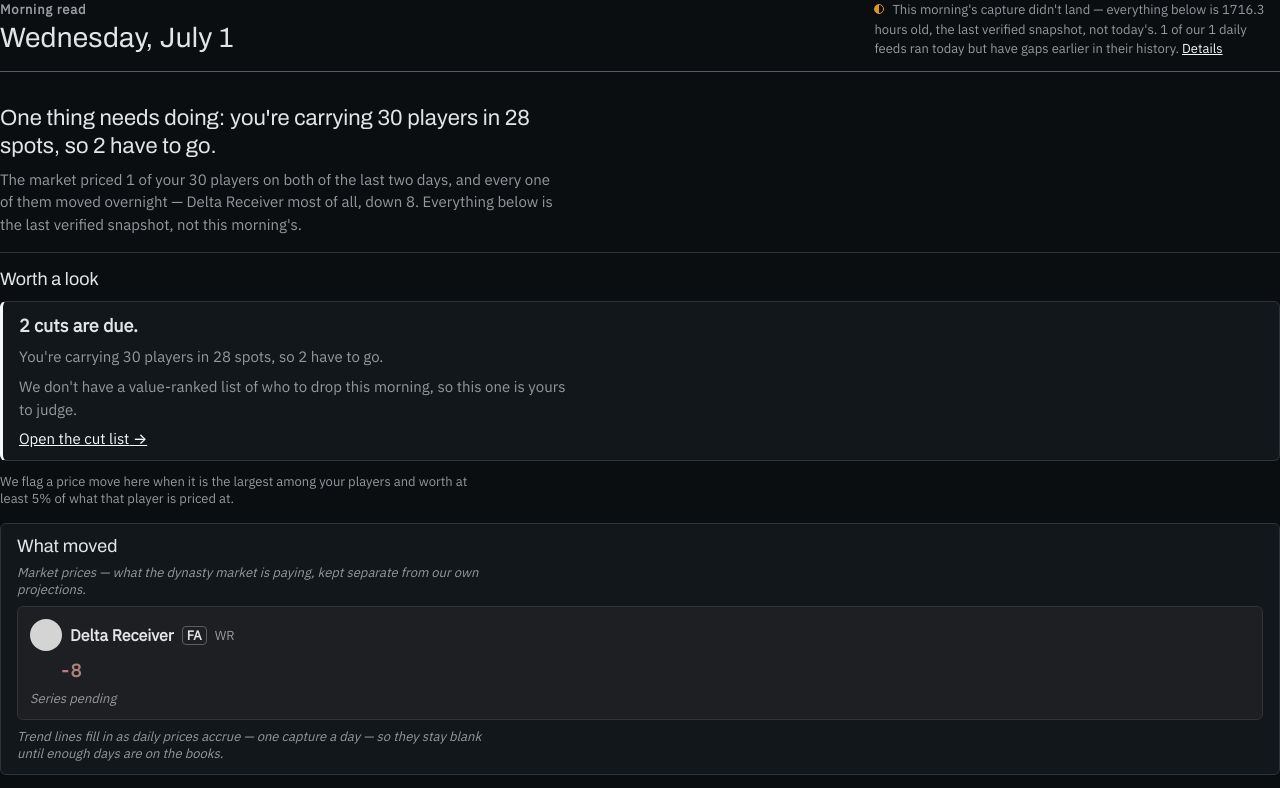
Test: DailyWhatChanged › names which feed is behind and why, from the condition that actually degraded it
Expected: the element with test id "wc-freshness" shows "gaps earlier in their history", [874, 1, 1265, 57]
Click the button with test id "wc-health-sheet-toggle".
click(1202, 49)  # box [1182, 39, 1223, 58]
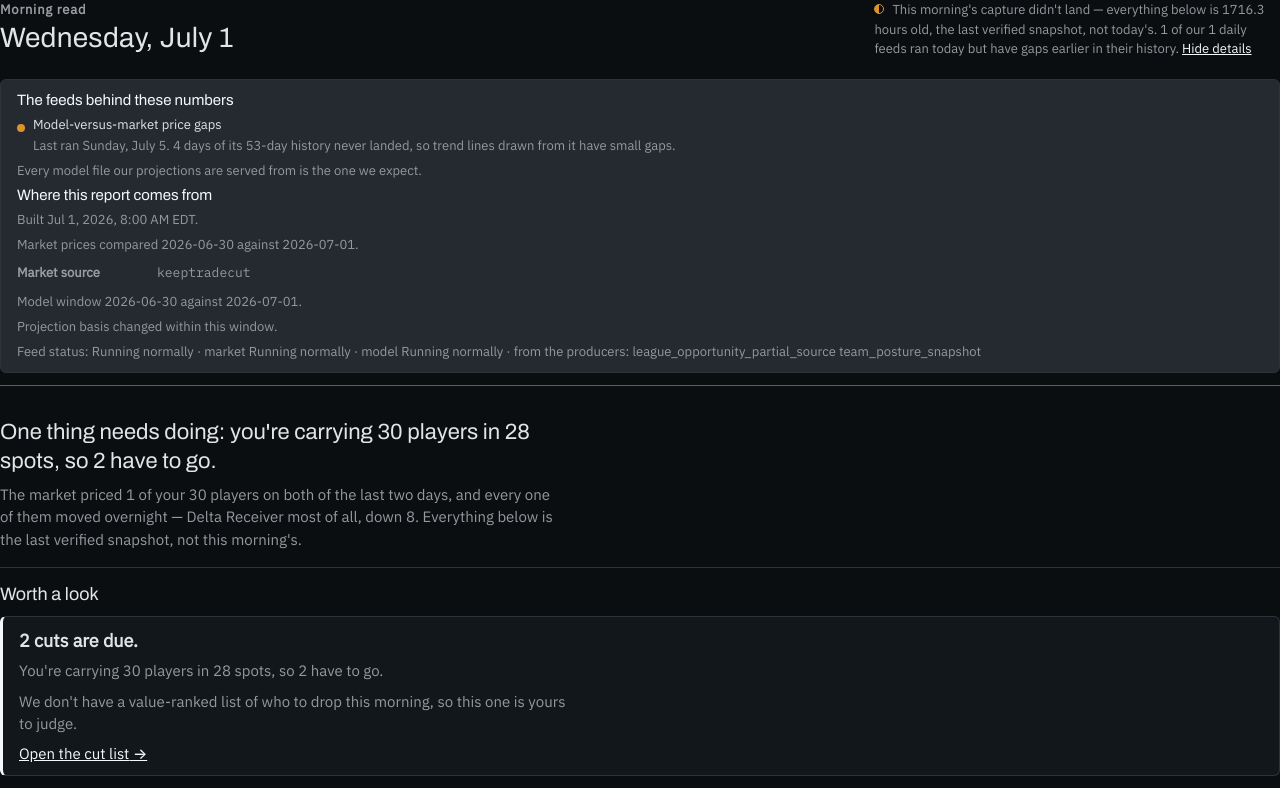
Now the text "Model-versus-market price gaps" is shown, box [33, 116, 222, 132]
Now the text "4 days of its 53-day history never landed" is shown, box [170, 136, 676, 154]
